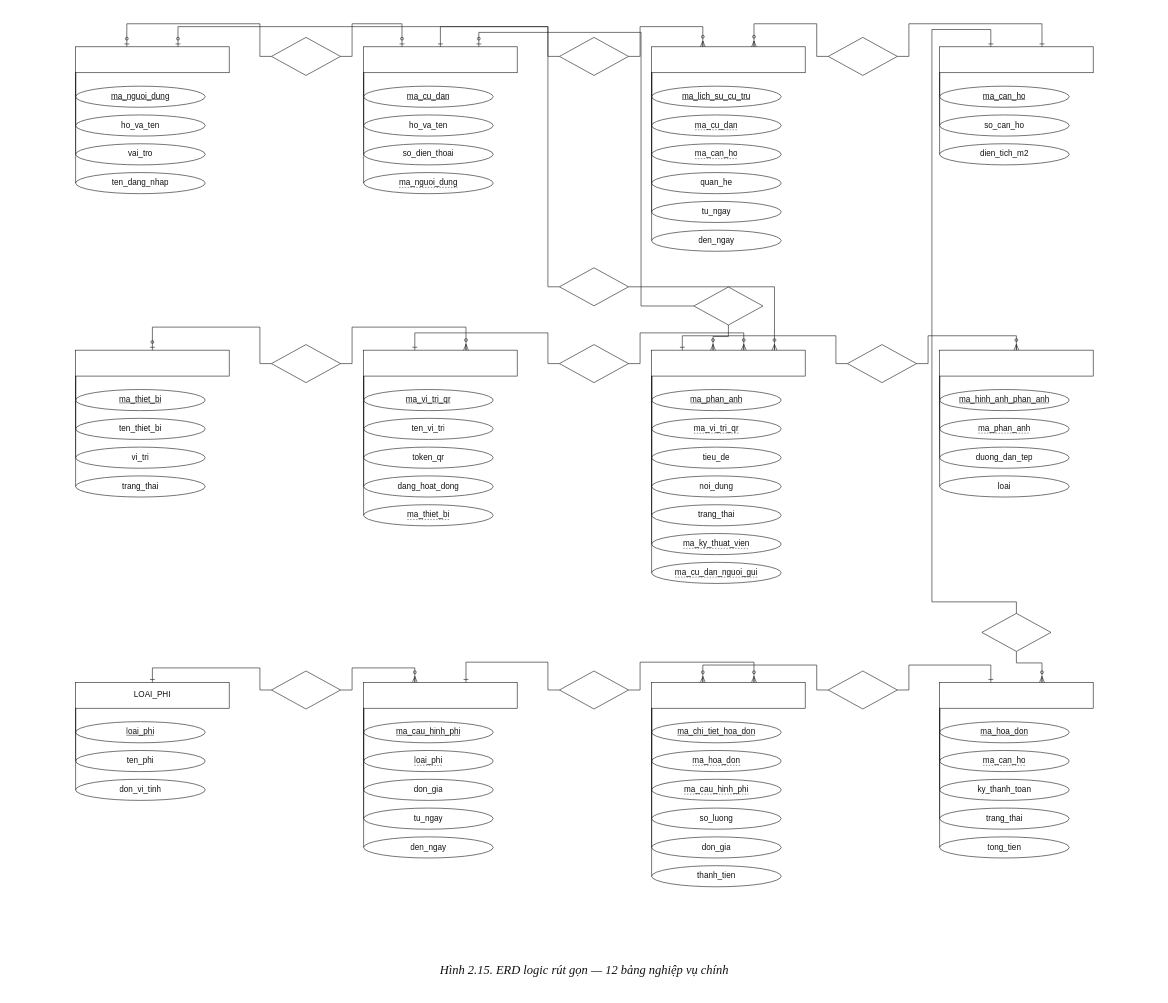
The diagram is 1168 pixels wide and 1003 high, and some of its shapes have lost their labels. The shapes that lost their labels are listed below. From the top down, each one's centre as x and y in pixels, then its label:
pixel 152 59: NGUOI_DUNG
pixel 440 59: CU_DAN
pixel 728 59: LICH_SU_CU_TRU
pixel 1016 59: CAN_HO
pixel 152 363: THIET_BI
pixel 440 363: VI_TRI_QR
pixel 728 363: PHAN_ANH
pixel 1016 363: HINH_ANH_PHAN_ANH
pixel 440 695: CAU_HINH_PHI
pixel 728 695: CHI_TIET_HOA_DON
pixel 1016 695: HOA_DON
